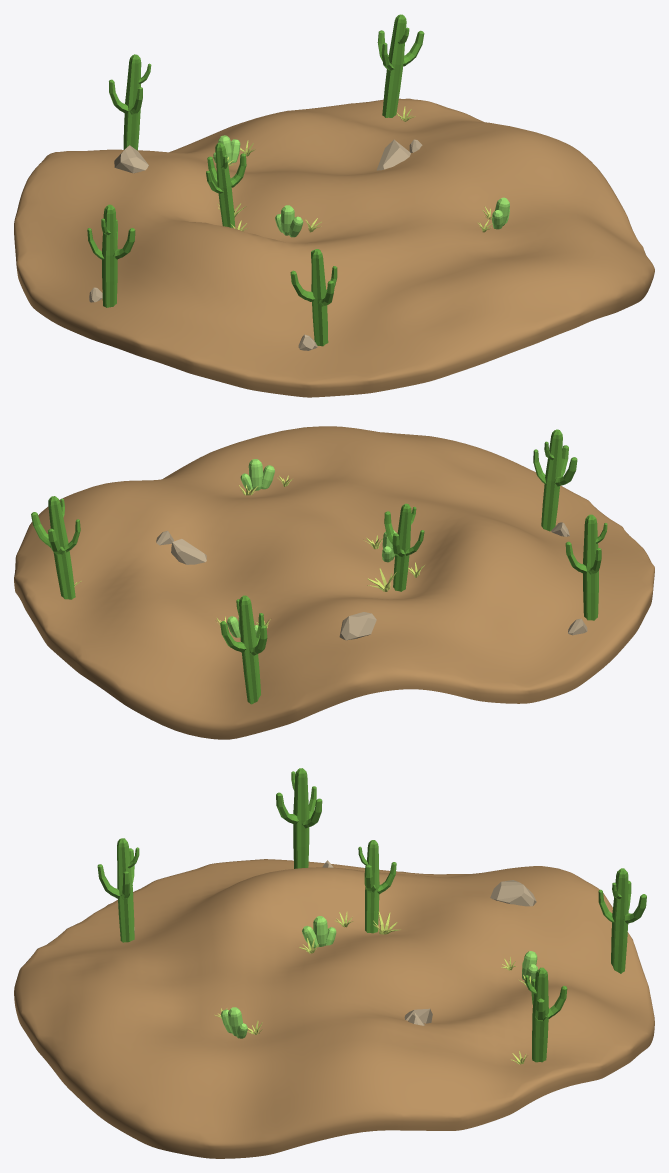
The model's file is Desert.fbx.
3 views of the same model, one above another, from view 1: azimuth 30°, elevation 25°; view 2: azimuth 150°, elevation 25°; view 3: azimuth 270°, elevation 25° (orthographic). The views are drawn at different scales.
Visible parts, largest first — view 1: Plane, Circle.003, Circle, Circle.001, Circle.004, Circle.002, Icosphere.001, Circle.006, Icosphere.004; view 2: Plane, Circle.004, Circle.001, Circle.003, Circle, Circle.002, Icosphere.001, Circle.007, Icosphere.004; view 3: Plane, Circle, Circle.004, Circle.001, Circle.003, Circle.002, Icosphere.001, Circle.006, Circle.007.
Boxes of the visible parts, left/top/right/bottom form: Plane: left=14, top=98, right=654, bottom=397; Circle.003: left=377, top=14, right=424, bottom=117; Circle: left=87, top=204, right=135, bottom=307; Circle.001: left=290, top=249, right=337, bottom=346; Circle.004: left=109, top=54, right=151, bottom=150; Circle.002: left=206, top=142, right=246, bottom=227; Icosphere.001: left=114, top=145, right=148, bottom=173; Circle.006: left=275, top=205, right=303, bottom=237; Icosphere.004: left=377, top=139, right=410, bottom=170; Plane: left=14, top=426, right=654, bottom=739; Circle.004: left=220, top=595, right=267, bottom=704; Circle.001: left=533, top=429, right=577, bottom=531; Circle.003: left=31, top=496, right=80, bottom=599; Circle: left=565, top=514, right=607, bottom=620; Circle.002: left=384, top=503, right=424, bottom=591; Icosphere.001: left=339, top=612, right=376, bottom=640; Circle.007: left=240, top=459, right=274, bottom=490; Icosphere.004: left=171, top=539, right=206, bottom=564; Plane: left=14, top=859, right=654, bottom=1158; Circle: left=276, top=768, right=322, bottom=868; Circle.004: left=598, top=868, right=646, bottom=973; Circle.001: left=97, top=838, right=139, bottom=942; Circle.003: left=525, top=967, right=567, bottom=1062; Circle.002: left=358, top=840, right=396, bottom=933; Icosphere.001: left=490, top=880, right=536, bottom=906; Circle.006: left=302, top=916, right=336, bottom=948; Circle.007: left=221, top=1007, right=247, bottom=1038.
Size of what is drawn, in the model's own units: 2974 by 774 by 2974.
